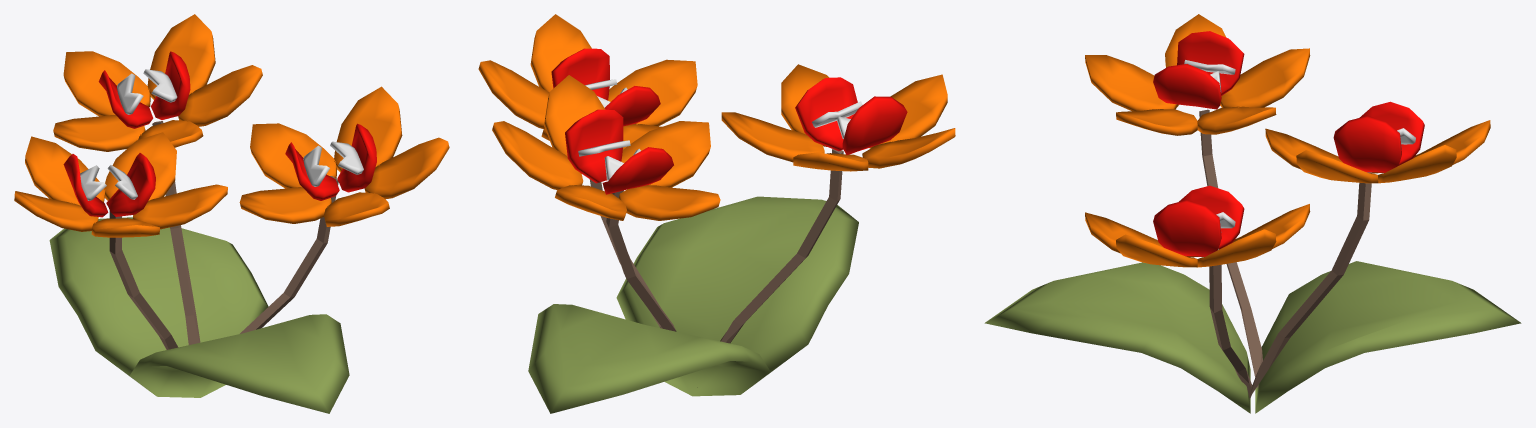
Rendered from C_FangedGeranium_3.fbx.
3 renders of one model, left to right at view 1: azimuth 30°, elevation 25°; view 2: azimuth 150°, elevation 25°; view 3: azimuth 270°, elevation 25°, orthographic. The views are drawn at different scales.
Parts seen in each view (by area): view 1: FangedGeranium_3.002; view 2: FangedGeranium_3.002; view 3: FangedGeranium_3.002.
Part boxes in pixels (bbox=[...]): FangedGeranium_3.002: bbox=[14, 14, 449, 413]; FangedGeranium_3.002: bbox=[478, 14, 955, 413]; FangedGeranium_3.002: bbox=[984, 14, 1521, 413].
Size of the model in its own units: 177 by 123 by 196.
